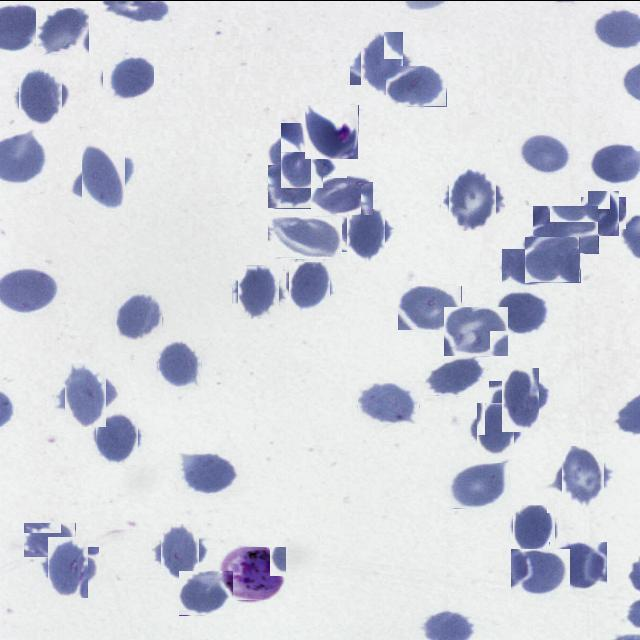red blood cell: (75, 147, 132, 205), (444, 306, 509, 356), (533, 205, 599, 253), (445, 170, 501, 226), (268, 216, 342, 256), (398, 284, 462, 330), (275, 128, 329, 182), (305, 104, 359, 158), (548, 541, 606, 590), (450, 462, 510, 508), (356, 36, 408, 89), (59, 368, 112, 420), (558, 449, 610, 502), (511, 548, 569, 594), (358, 382, 420, 424), (178, 452, 240, 494), (43, 541, 94, 592), (524, 236, 580, 282), (15, 70, 66, 120), (496, 373, 546, 424), (36, 7, 90, 54), (311, 175, 374, 215), (386, 65, 447, 106), (179, 570, 234, 615), (425, 356, 488, 395), (495, 288, 550, 332), (268, 164, 323, 208), (103, 54, 155, 100), (115, 290, 163, 338), (156, 528, 204, 576), (93, 412, 141, 460), (235, 267, 283, 315), (342, 208, 391, 255), (286, 260, 333, 308), (156, 341, 204, 387), (472, 406, 518, 452), (519, 134, 573, 173), (512, 506, 556, 550), (24, 522, 76, 557), (502, 248, 552, 284), (584, 193, 623, 231)
trophozoite: (218, 546, 287, 600)
